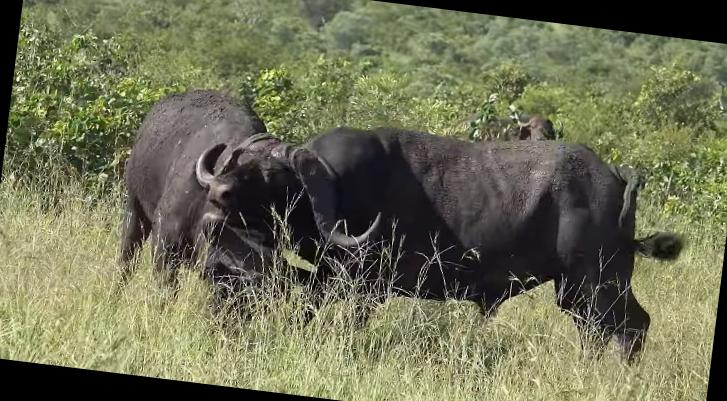Buffalo: (92, 64, 666, 345)
